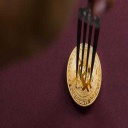Fork: (73, 7, 103, 97)
